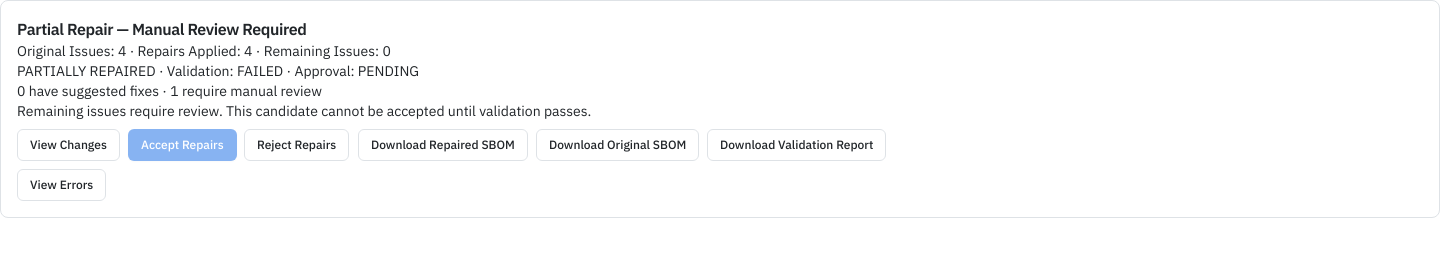
Scenario: repair release state integrity › uses remaining errors from the candidate instead of repaired original errors
The width and height of the screenshot is (1440, 263).
What coordinates should you click on to do the following:
click the button "View Errors"
I would click on:
 (62, 185)
Its box is [17, 169, 106, 201].
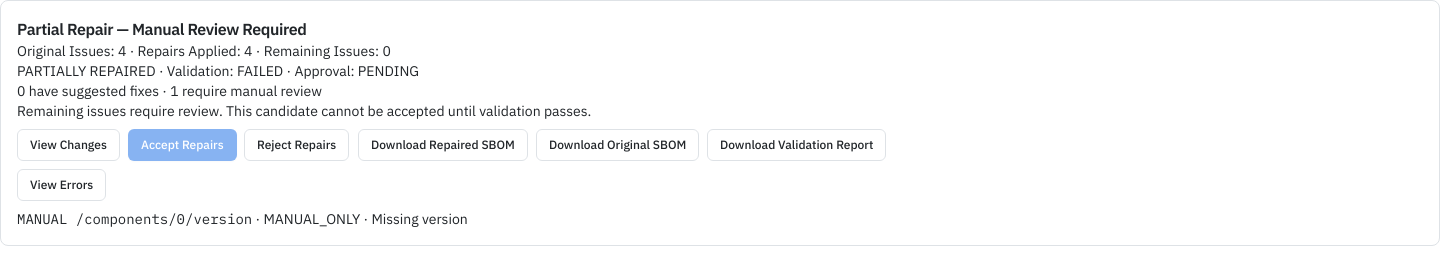
Expected: the heading "Partial Repair — Manual Review Required" is shown, [17, 19, 306, 39]
Now the list item "MANUAL /components/0/version · MANUAL_ONLY · Missing version" is shown, box [17, 210, 468, 228]
